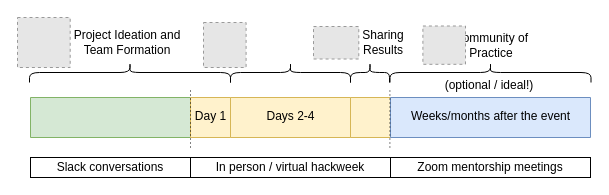
Some shapes in this 609 by 195 pixel diagram are drawn without their labels. Grey dashed boxes stand in for pictures. Here are the shapes that lost their labels. From the top down, the centre of each, then its label:
At point (290, 72): "Project Teamwork".
At point (110, 117): "Weeks before the event".
At point (370, 117): "Day 5".
